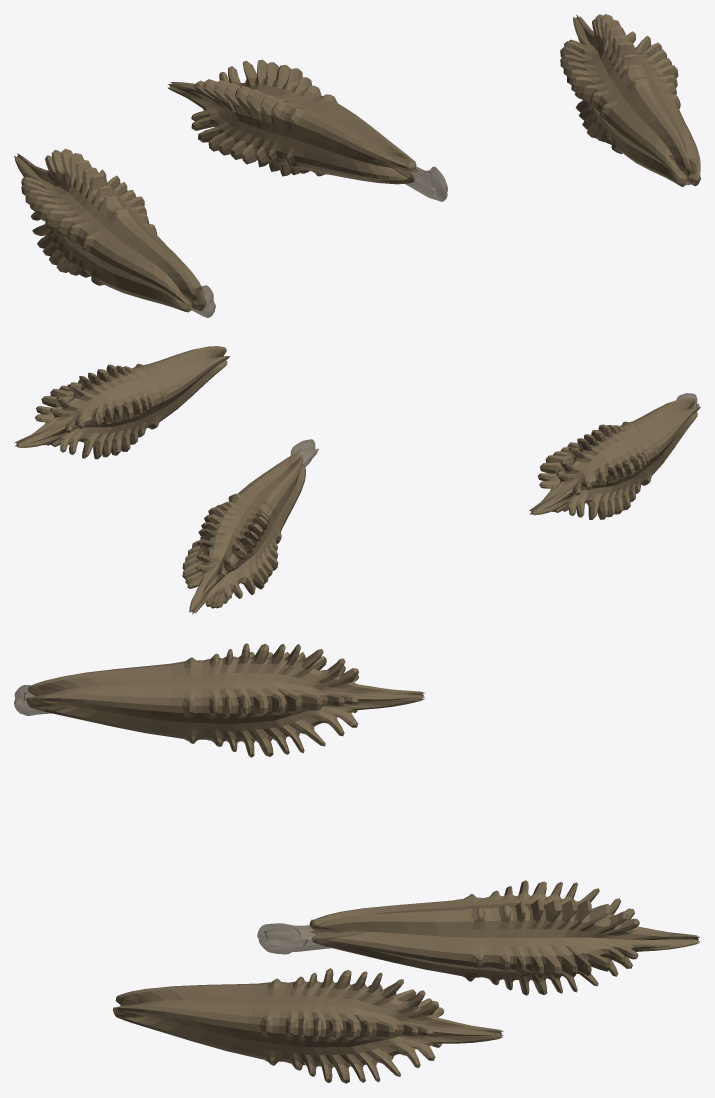
Rendered from Seeds.glb.
The picture shows the model from 3 angles, top to bottom: view 1: azimuth 30°, elevation 25°; view 2: azimuth 150°, elevation 25°; view 3: azimuth 270°, elevation 25°; orthographic projection. The views are drawn at different scales.
Visible parts, largest first — view 1: Circle.002, Circle.001, Circle.003, Cube.001, Cube.003; view 2: Circle.003, Circle.001, Circle.002, Cube.001; view 3: Circle.001, Circle.003, Circle.002, Cube.001, Cube.003.
Part boxes in pixels (box(x1,y1,x2,y2)): Circle.002: box(167, 59, 418, 184); Circle.001: box(14, 148, 206, 312); Circle.003: box(560, 14, 700, 186); Cube.001: box(392, 166, 447, 201); Cube.003: box(183, 285, 215, 317); Circle.003: box(15, 346, 229, 459); Circle.001: box(529, 397, 700, 519); Circle.002: box(182, 454, 305, 614); Cube.001: box(290, 439, 318, 466); Circle.001: box(26, 643, 424, 757); Circle.003: box(113, 968, 503, 1083); Circle.002: box(309, 880, 700, 995); Cube.001: box(257, 923, 367, 954); Cube.003: box(14, 685, 67, 715).
Bounding box in the file's own units: 5.11 × 1.33 × 4.35.
